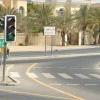crosswalks: (9, 70, 99, 79)
